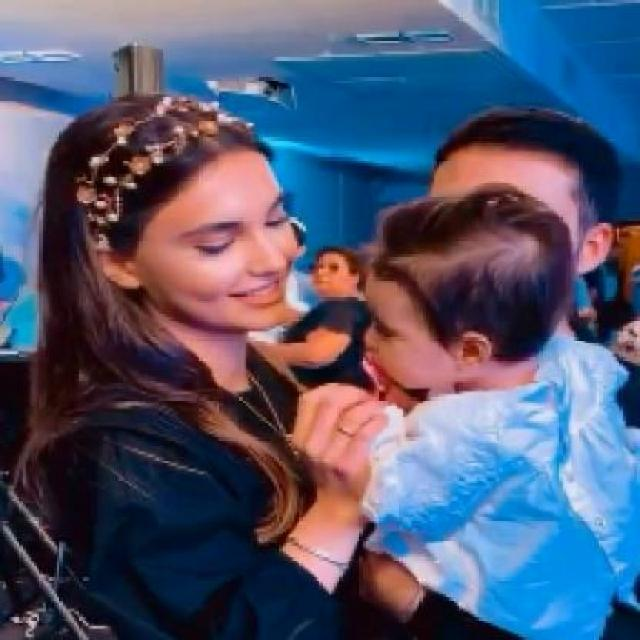child: (357, 185, 640, 638)
